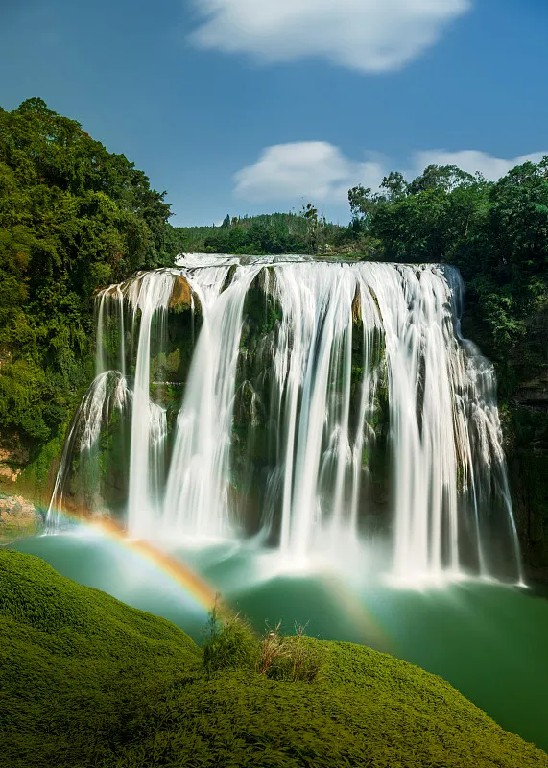Huangguoshu: (66, 253, 528, 587)
